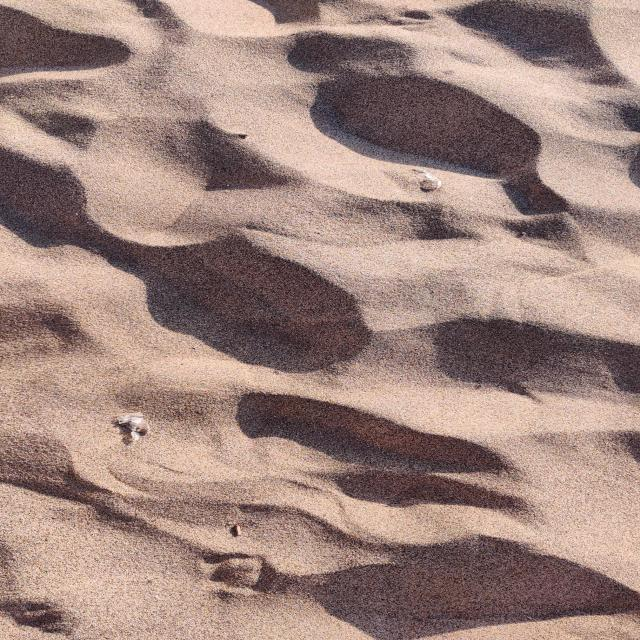litter: (93, 409, 166, 443)
